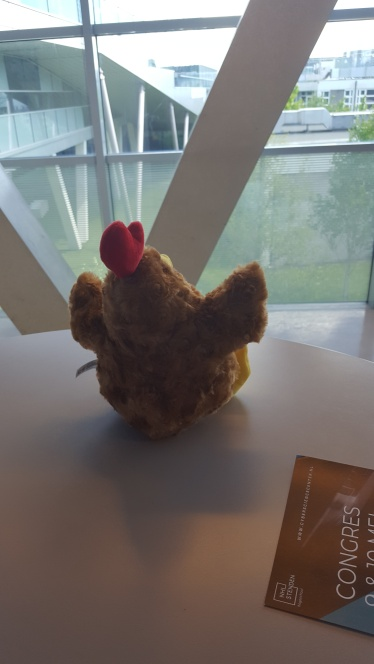chicken_back: (68, 219, 271, 440)
